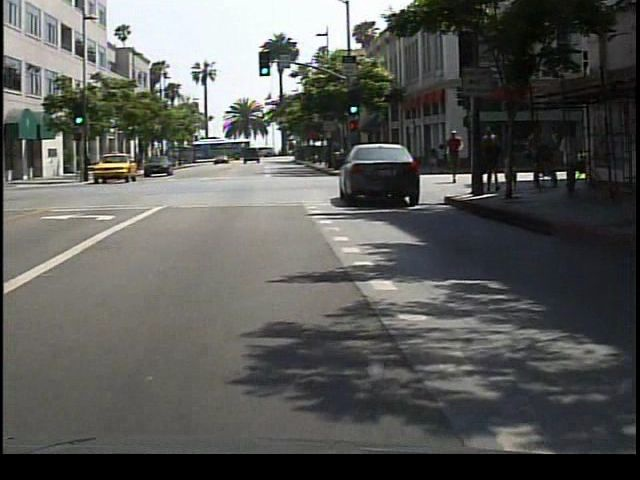person: (445, 128, 469, 189)
